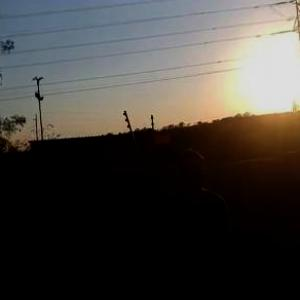follow: (156, 137, 235, 299)
